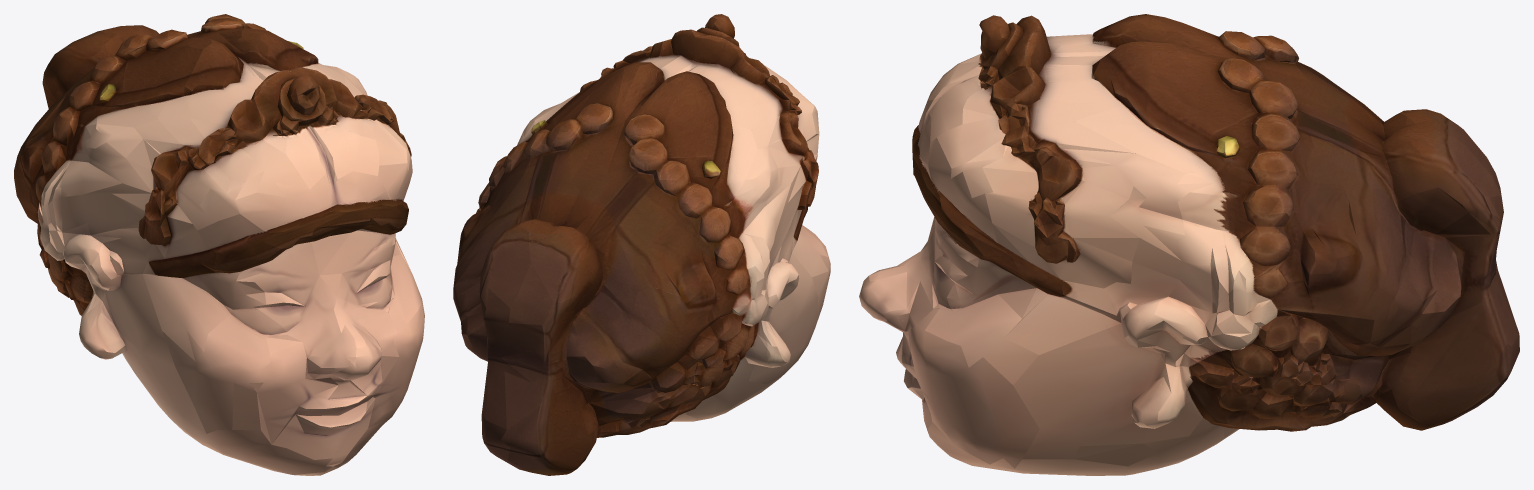
Rendered from npc_smith.glb.
The picture shows the model from 3 angles, left to right: view 1: azimuth 30°, elevation 25°; view 2: azimuth 150°, elevation 25°; view 3: azimuth 270°, elevation 25°; orthographic projection. The views are drawn at different scales.
Bounding box in the file's own units: 1.15 × 1.39 × 1.89.
1 material, 1 textured.
